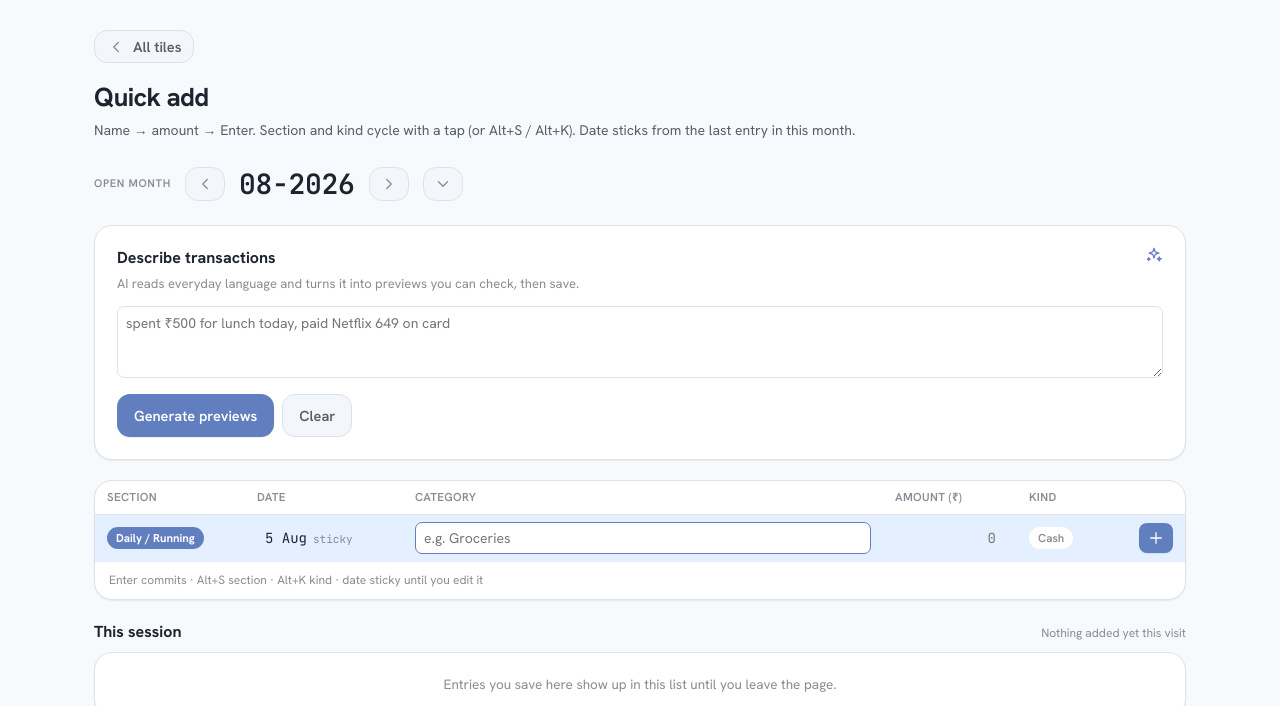
Test case: RecordEntryPage › does not add failed creates to the session log
Expected: the heading "Quick add" is shown, [94,80,208,114]
In the dropdown with placeholder "e.g. Groceries": (643, 538) [415,522,871,554], type "Taxi"
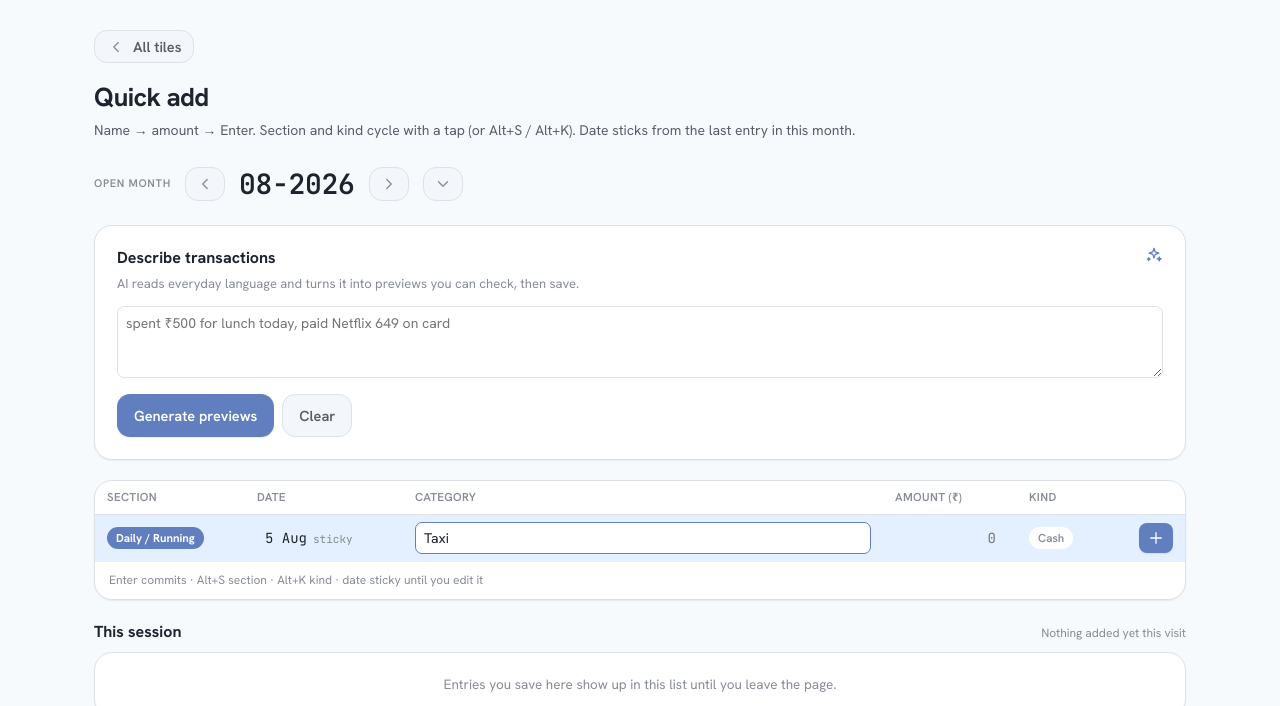
In the field with placeholder "0": (950, 538) [895,522,1005,554], type "50"
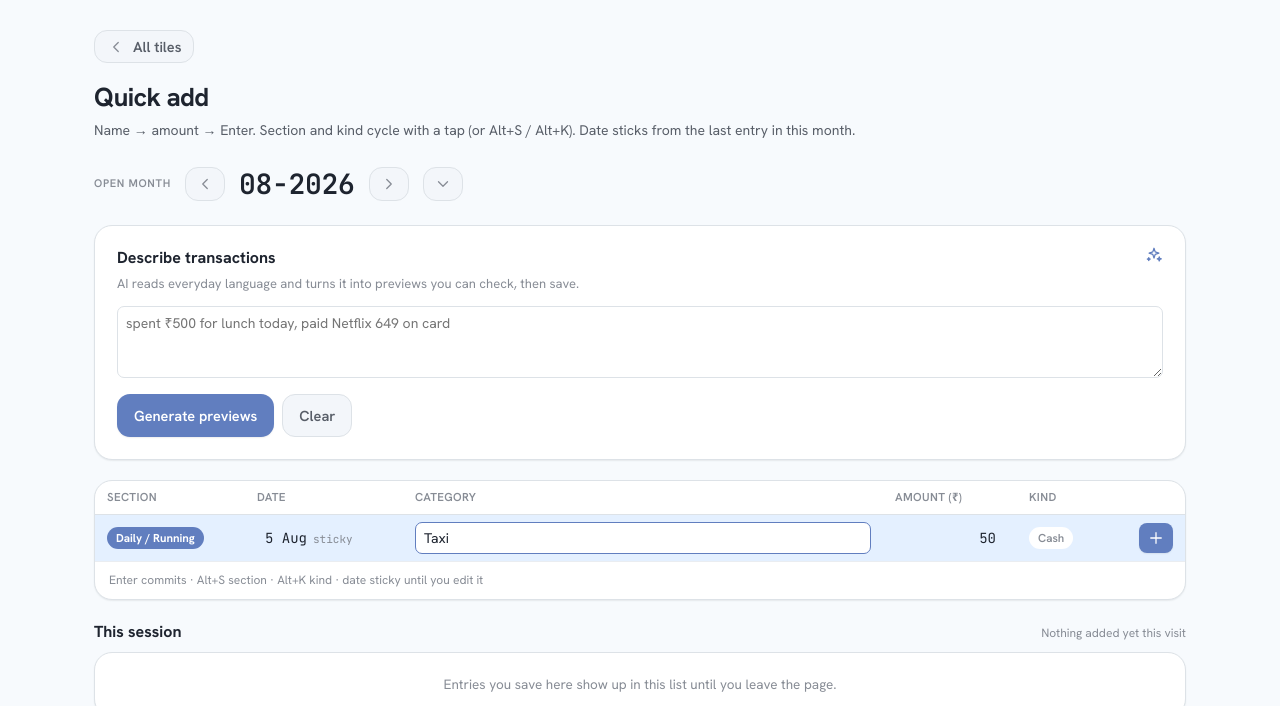
Click the button named "Add entry": (1156, 538) [1139,523,1173,553]
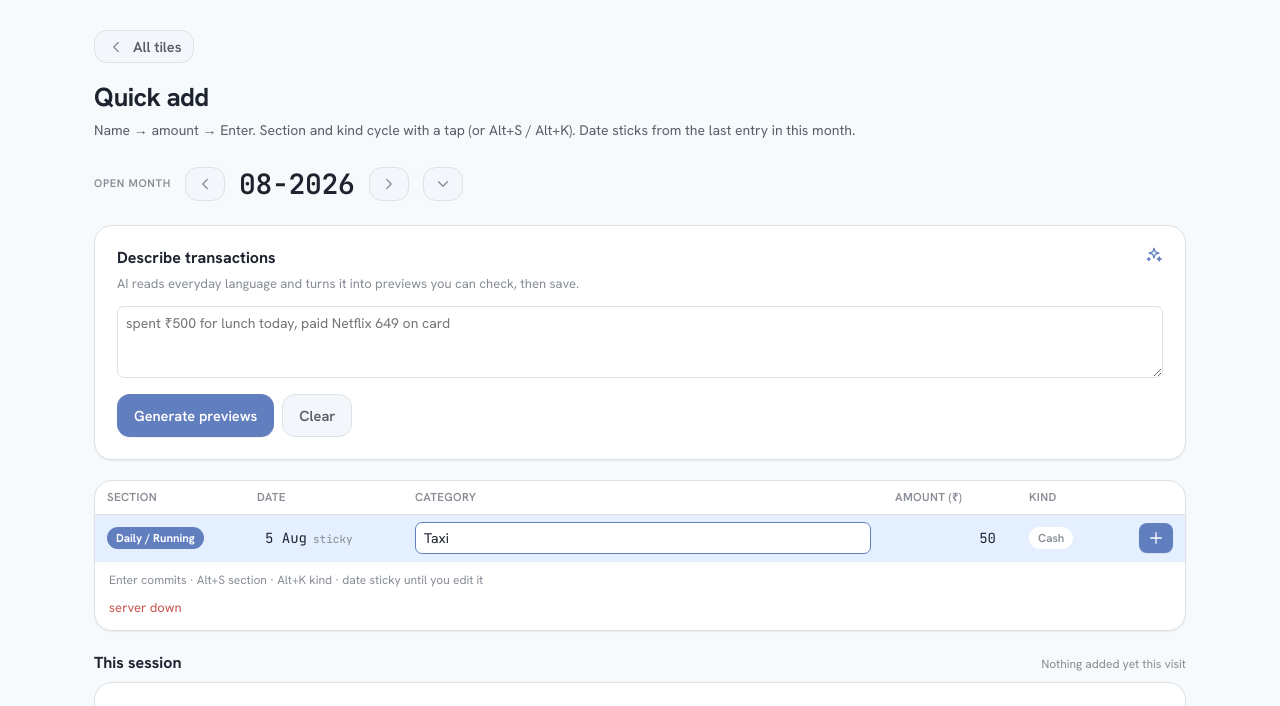
Expected: the text "server down" is shown, [109,599,182,616]
